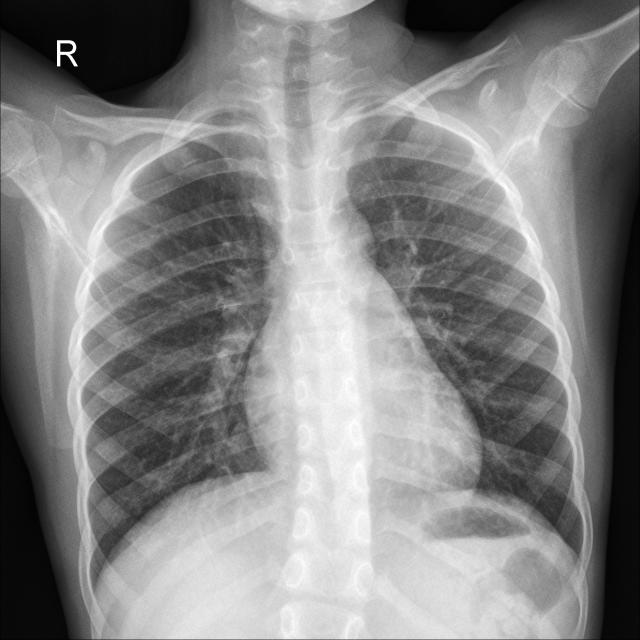no-pneumonia: (341, 110, 585, 554), (75, 110, 280, 584)
